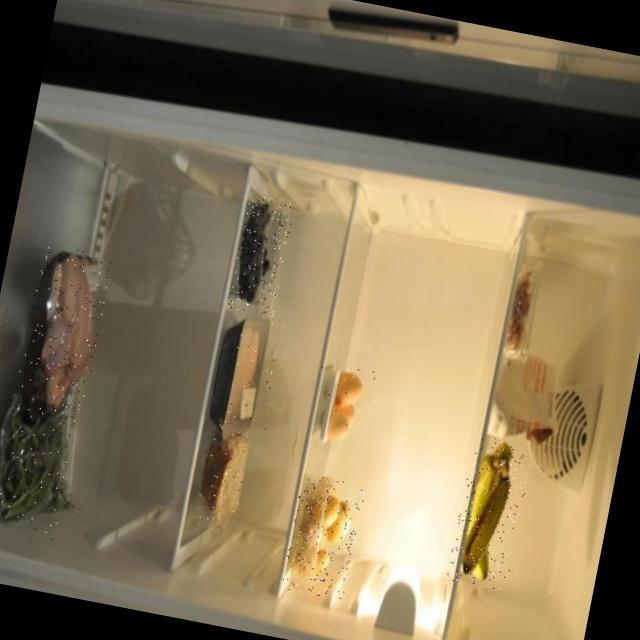Carne pollo: (12, 242, 113, 420)
Huevos: (306, 362, 381, 456)
Patata: (280, 474, 365, 602)
Plátano: (445, 434, 534, 591)
bread: (192, 431, 252, 526)
green beans: (0, 394, 78, 543)
meat: (208, 307, 287, 462)
olive: (227, 195, 294, 317)
